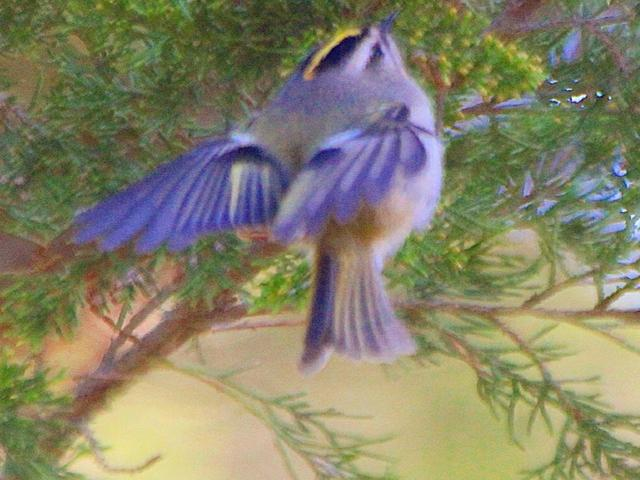bird: (79, 10, 489, 409)
